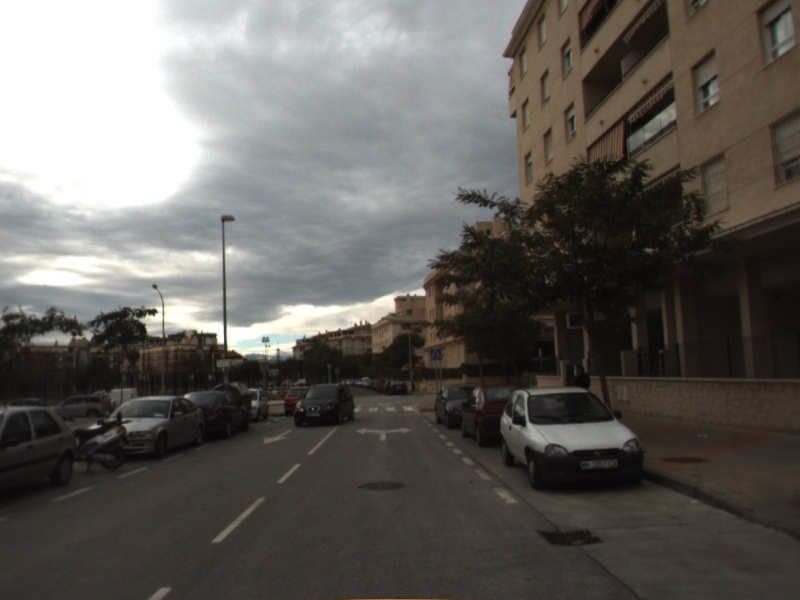LEFT_RIGHT: (354, 424, 414, 443)
